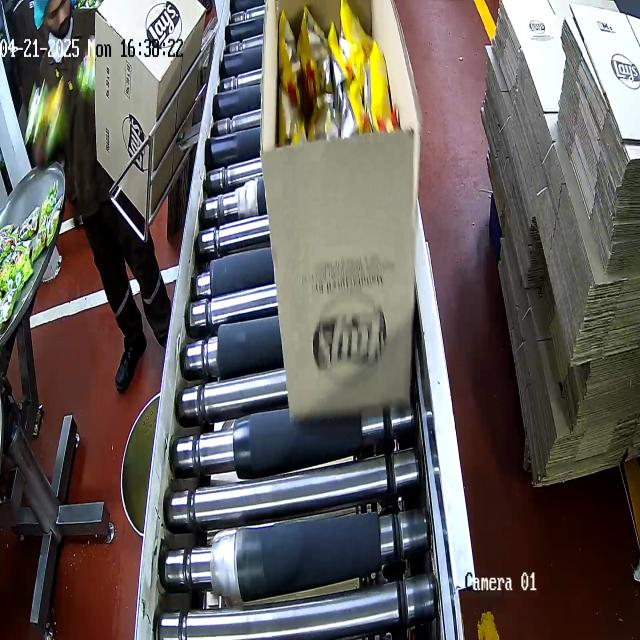SALTED: (282, 1, 393, 139)
